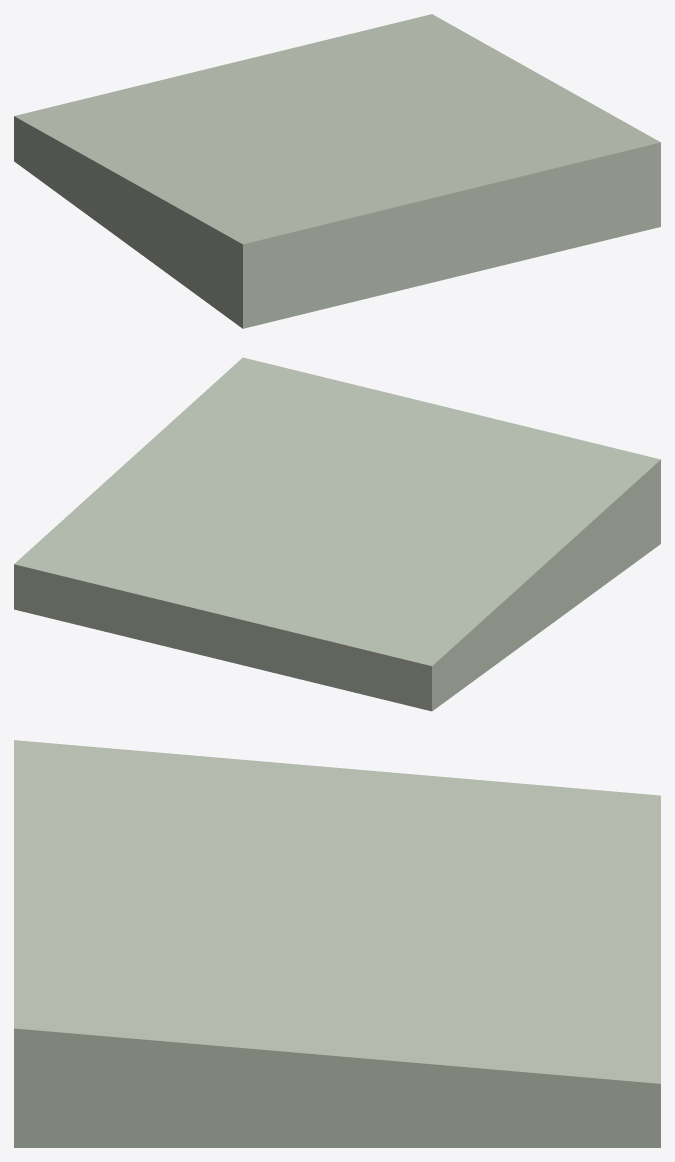
The model's file is SM_MP_Flow_EntryRamp.fbx.
3 views of the same model, one above another, from view 1: azimuth 30°, elevation 25°; view 2: azimuth 150°, elevation 25°; view 3: azimuth 270°, elevation 25° (orthographic). The views are drawn at different scales.
Visible parts, largest first — view 1: SM_MP_Flow_EntryRamp; view 2: SM_MP_Flow_EntryRamp; view 3: SM_MP_Flow_EntryRamp.
Part boxes in pixels (left/top/right/bottom): SM_MP_Flow_EntryRamp: left=14, top=14, right=660, bottom=328; SM_MP_Flow_EntryRamp: left=14, top=357, right=660, bottom=711; SM_MP_Flow_EntryRamp: left=14, top=740, right=660, bottom=1147.
Size of the model in its own units: 580 by 550 by 112.
Materials: 1 (1 with a texture image).
